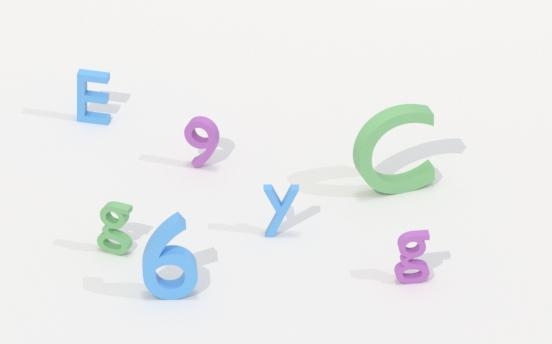chu_khoi: (353, 104, 434, 194), (76, 69, 110, 124), (97, 201, 132, 254), (394, 230, 429, 283), (263, 184, 298, 236)
so_khoi: (142, 212, 197, 299), (184, 116, 219, 167)
